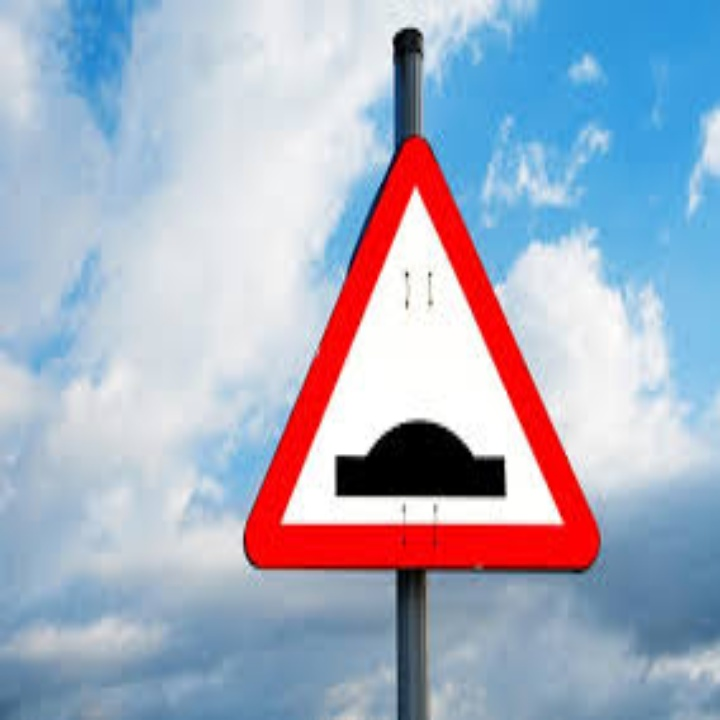bump: (322, 412, 516, 507)
